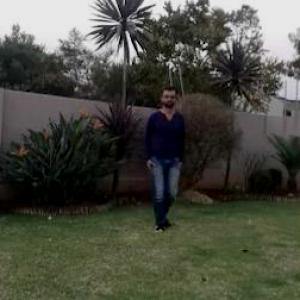follow: (144, 89, 182, 223)
